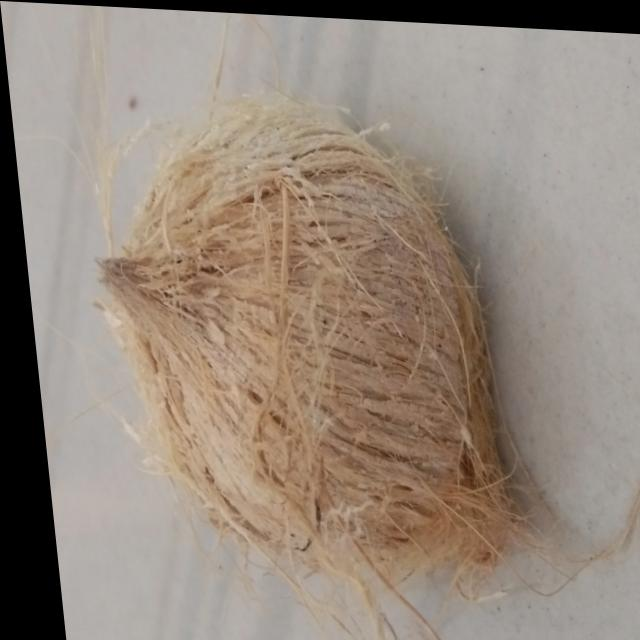phatora: (51, 89, 532, 627)
